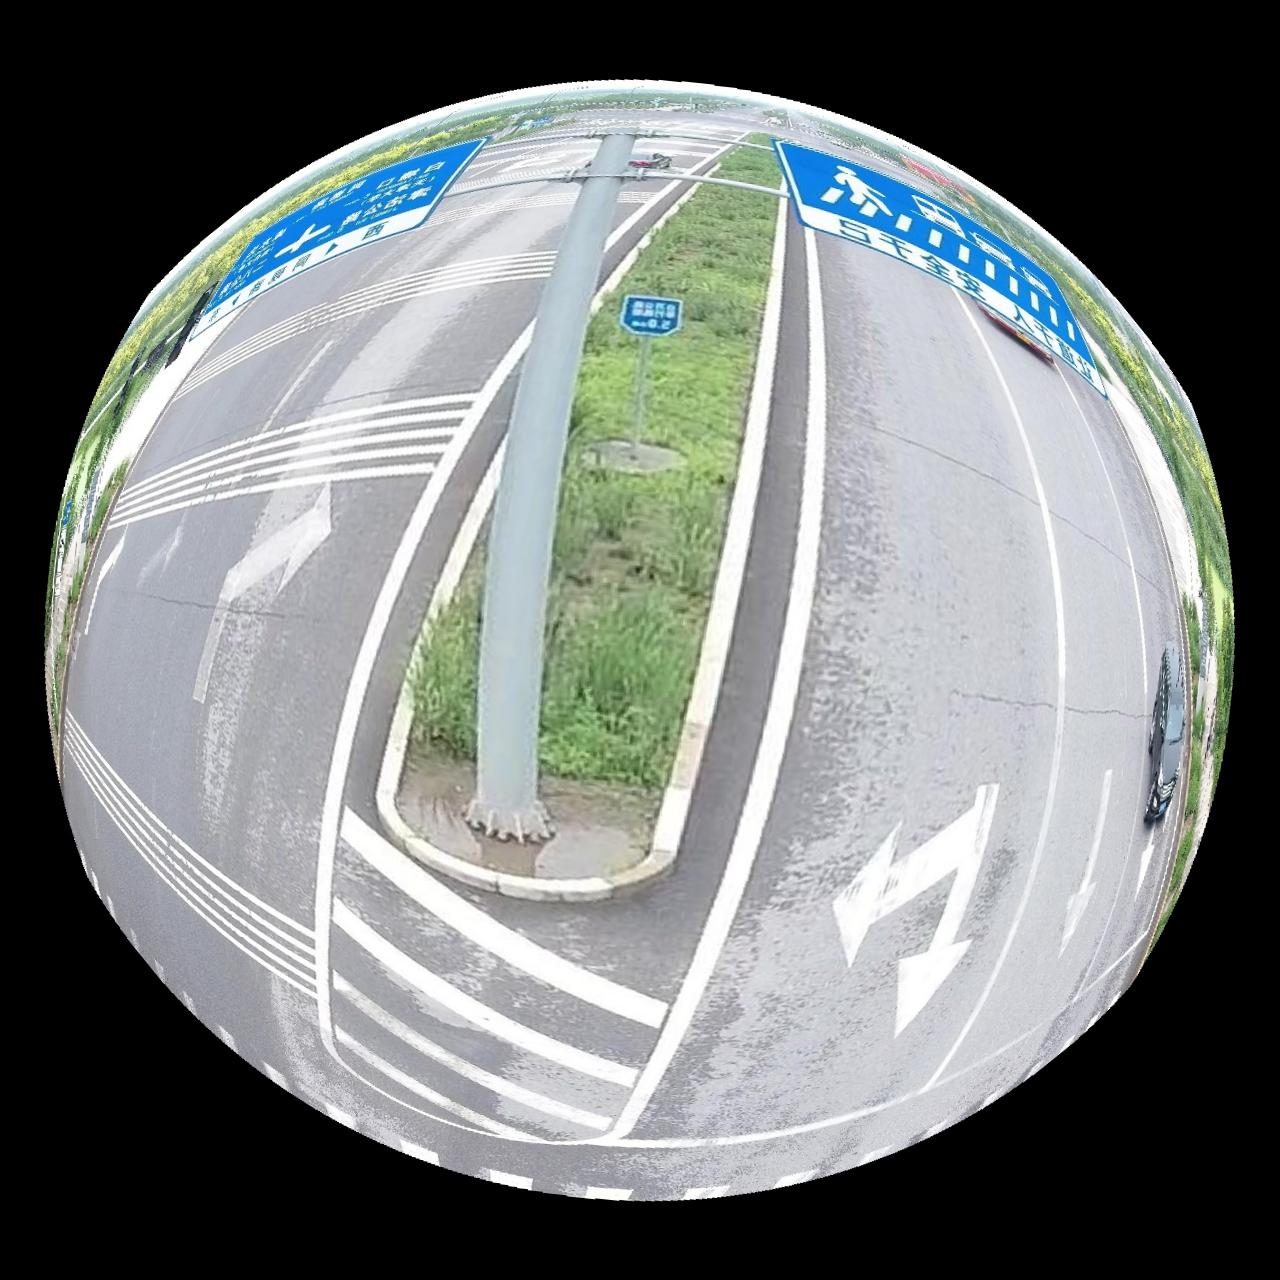cars: (1148, 644, 1189, 825), (979, 304, 1055, 366), (955, 287, 969, 309)
